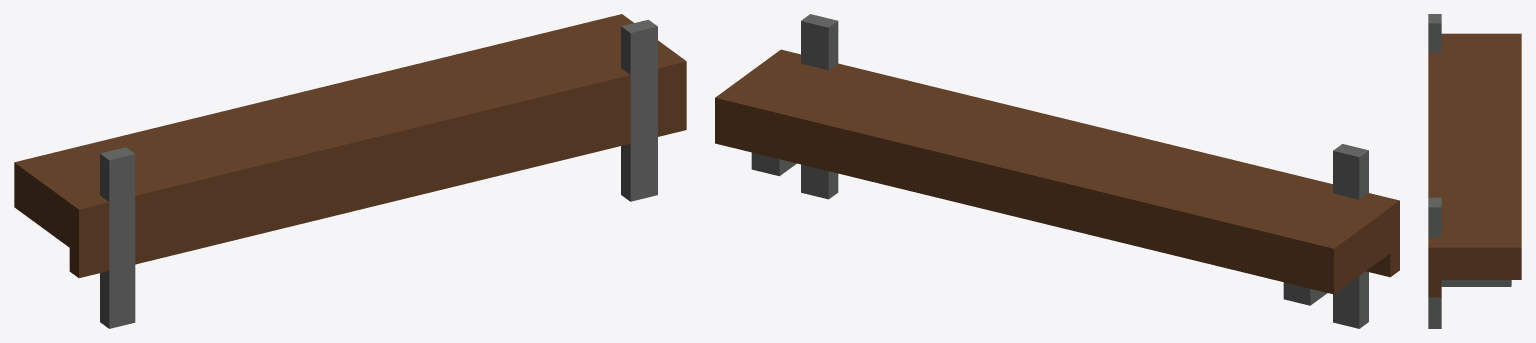
The model's file is Shelf.fbx.
The picture shows the model from 3 angles, left to right: view 1: azimuth 30°, elevation 25°; view 2: azimuth 150°, elevation 25°; view 3: azimuth 270°, elevation 25°; orthographic projection. The views are drawn at different scales.
Parts seen in each view (by area): view 1: Shelf.003; view 2: Shelf.003; view 3: Shelf.003.
Boxes of the visible parts, <box> form: Shelf.003: <box>14,14,686,328</box>; Shelf.003: <box>715,14,1399,328</box>; Shelf.003: <box>1428,14,1521,328</box>.
Size of the model in its own units: 1226 by 325 by 226.
1 material, 1 textured.
